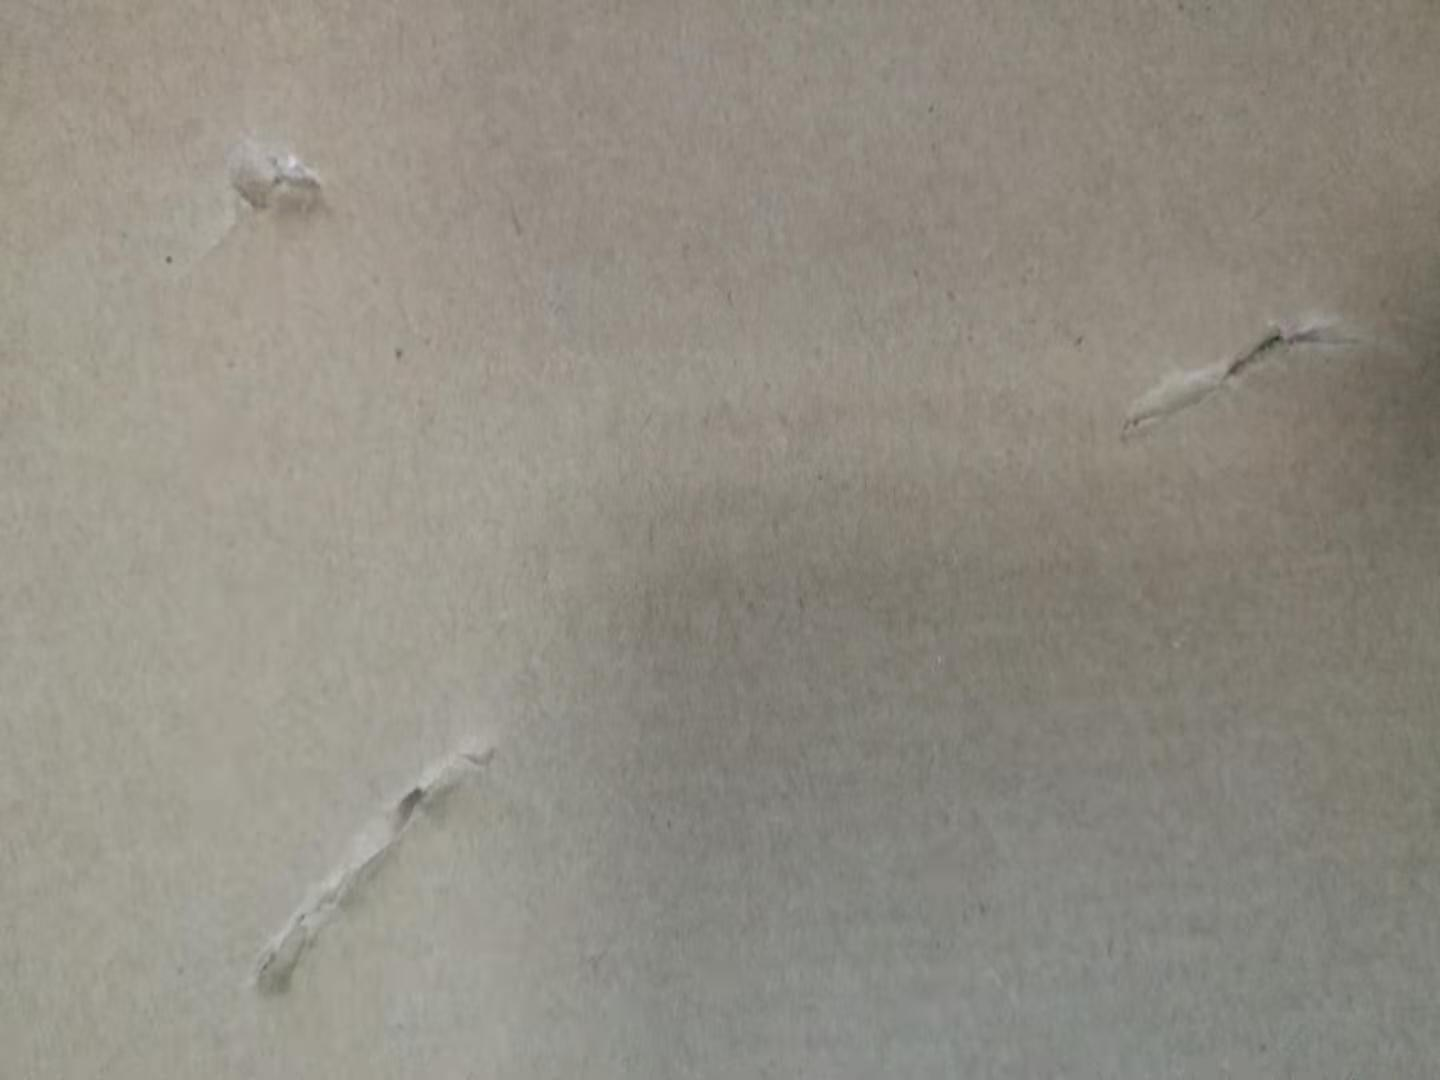defect: (221, 704, 526, 1021), (1103, 281, 1422, 440), (172, 103, 347, 295)
